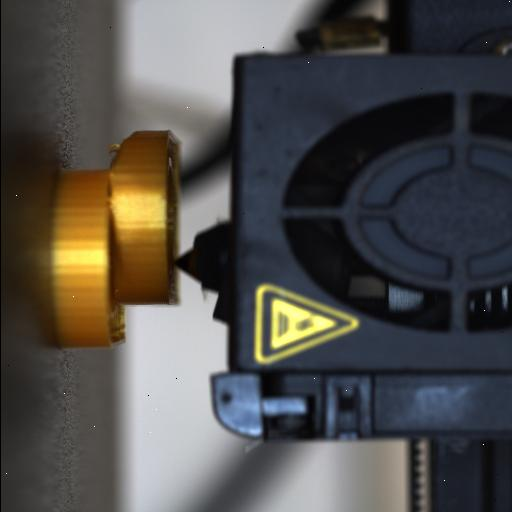layer_shift: (102, 128, 137, 347)
